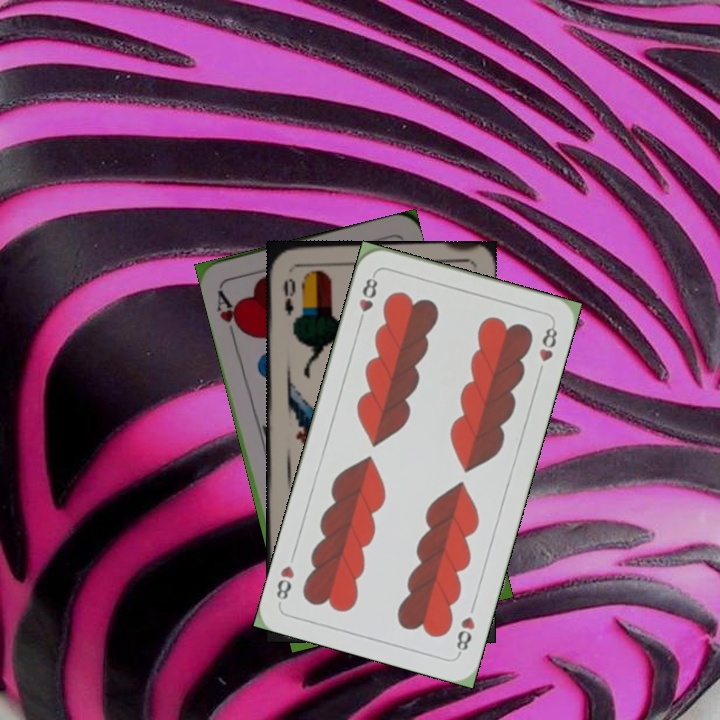EO: (280, 274, 298, 318)
H8: (354, 270, 381, 328), (452, 612, 478, 658)
HA: (212, 283, 247, 341)
